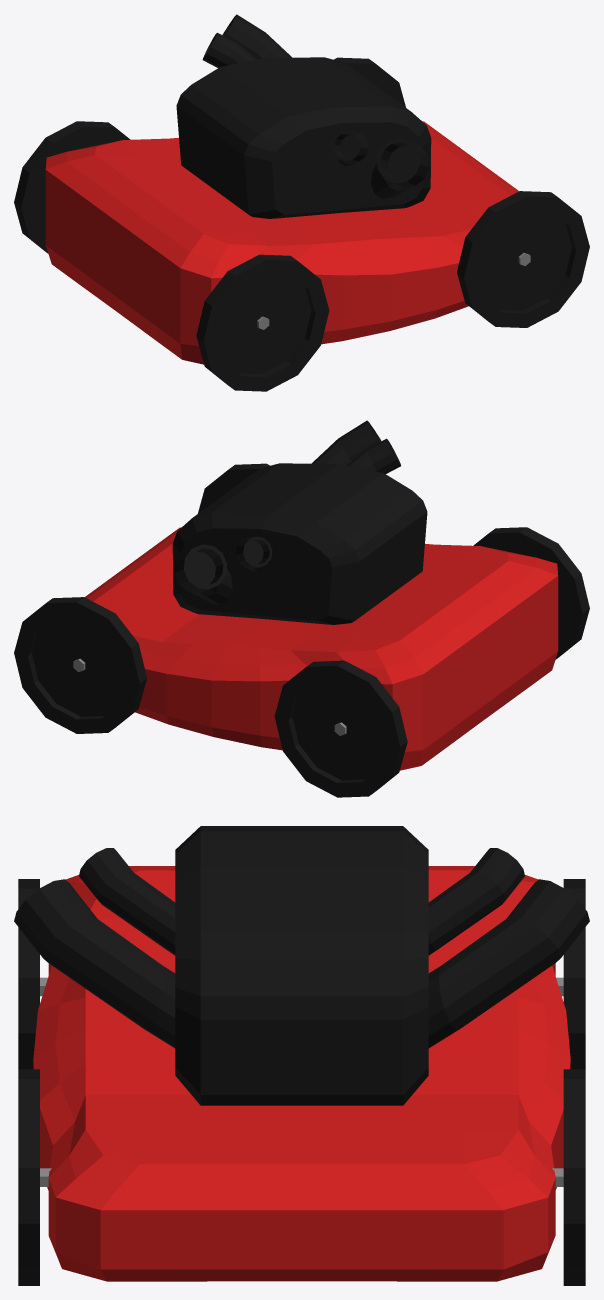
File: muruniiduk ilma suitsuta.fbx
3 views of the same model, one above another, from view 1: azimuth 30°, elevation 25°; view 2: azimuth 150°, elevation 25°; view 3: azimuth 270°, elevation 25° (orthographic). The views are drawn at different scales.
Parts seen in each view (by area): view 1: keha; view 2: keha; view 3: keha.
Boxes of the visible parts, x1=… form: keha: x1=14, y1=14, x2=589, y2=391; keha: x1=14, y1=420, x2=589, y2=797; keha: x1=14, y1=826, x2=589, y2=1285.
Size of the model in its own units: 194 by 102 by 167.
